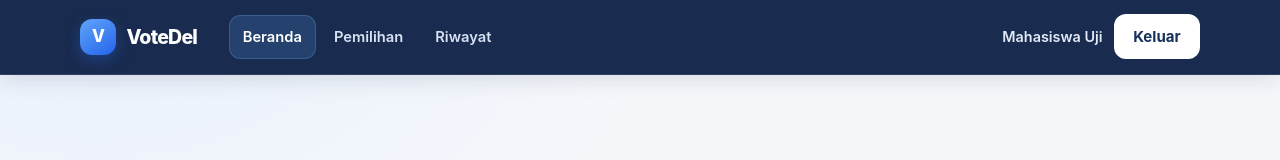
Scenario: NavbarComponent › keluar dari sesi ketika tombol keluar ditekan
What coordinates should you click on to do the following:
click the button "Keluar"
I would click on:
 (1157, 37)
Its box is [1114, 14, 1200, 59].
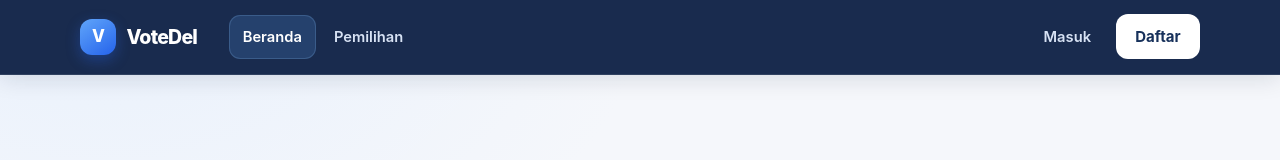
Now the link "Daftar" is shown, box [1116, 14, 1200, 59]
